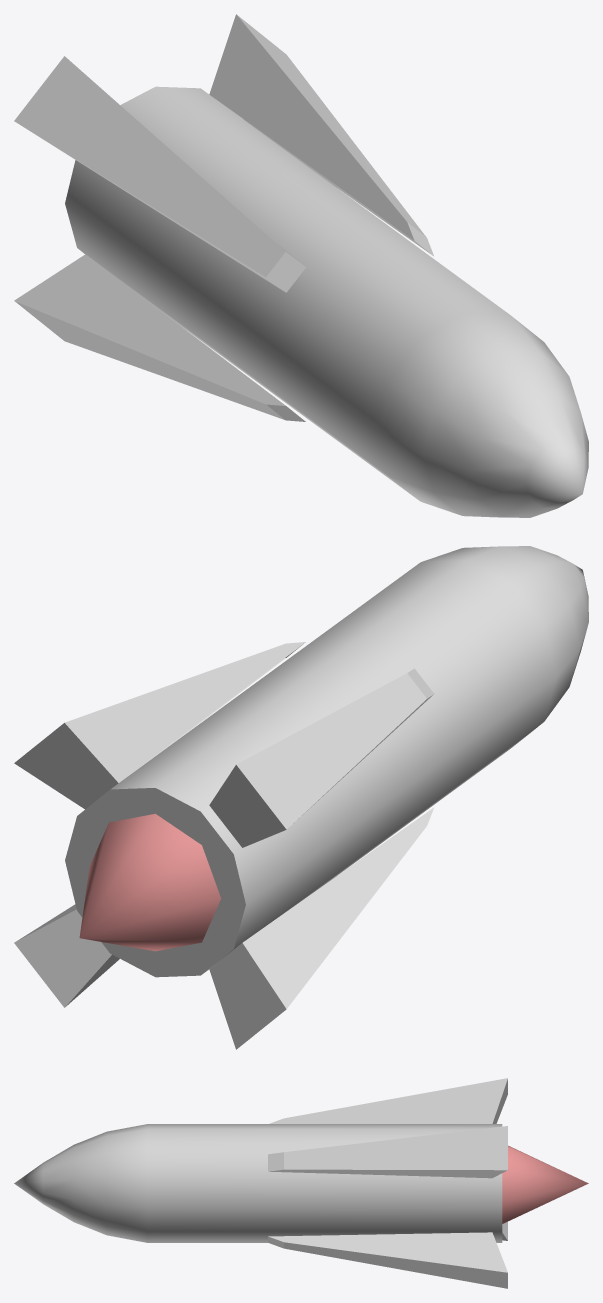
Rendered from Rocket.glb.
3 views of the same model, one above another, from view 1: azimuth 30°, elevation 25°; view 2: azimuth 150°, elevation 25°; view 3: azimuth 270°, elevation 25° (orthographic). The views are drawn at different scales.
Parts seen in each view (by area): view 1: Rocket; view 2: Rocket; view 3: Rocket.
Boxes of the visible parts, left/top/right/bottom form: Rocket: left=14, top=14, right=588, bottom=517; Rocket: left=14, top=546, right=588, bottom=1049; Rocket: left=14, top=1078, right=588, bottom=1288.
Size of the model in its own units: 0.5214 by 0.5214 by 1.67.
